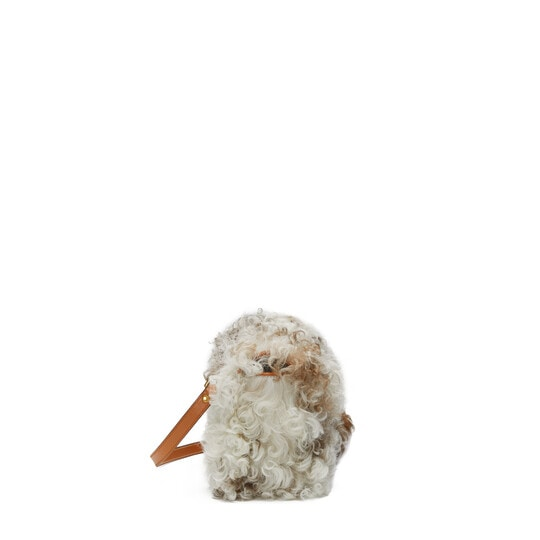Gucci: (163, 287, 371, 507)
